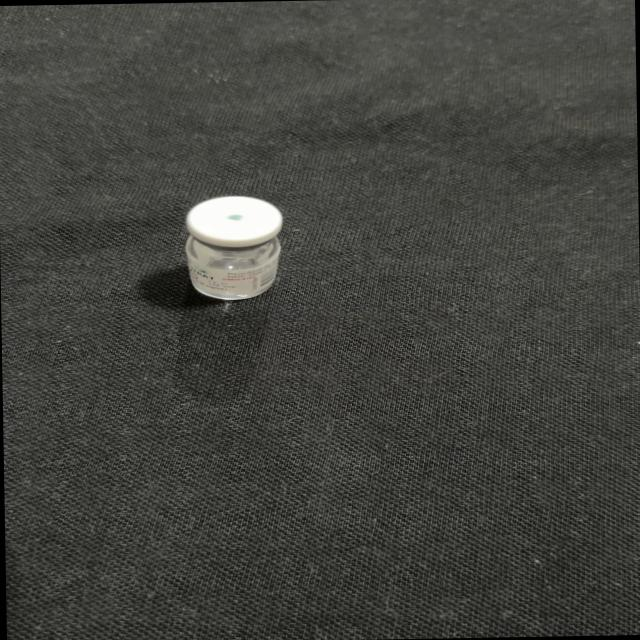fentanl_citrat: (183, 196, 282, 299)
